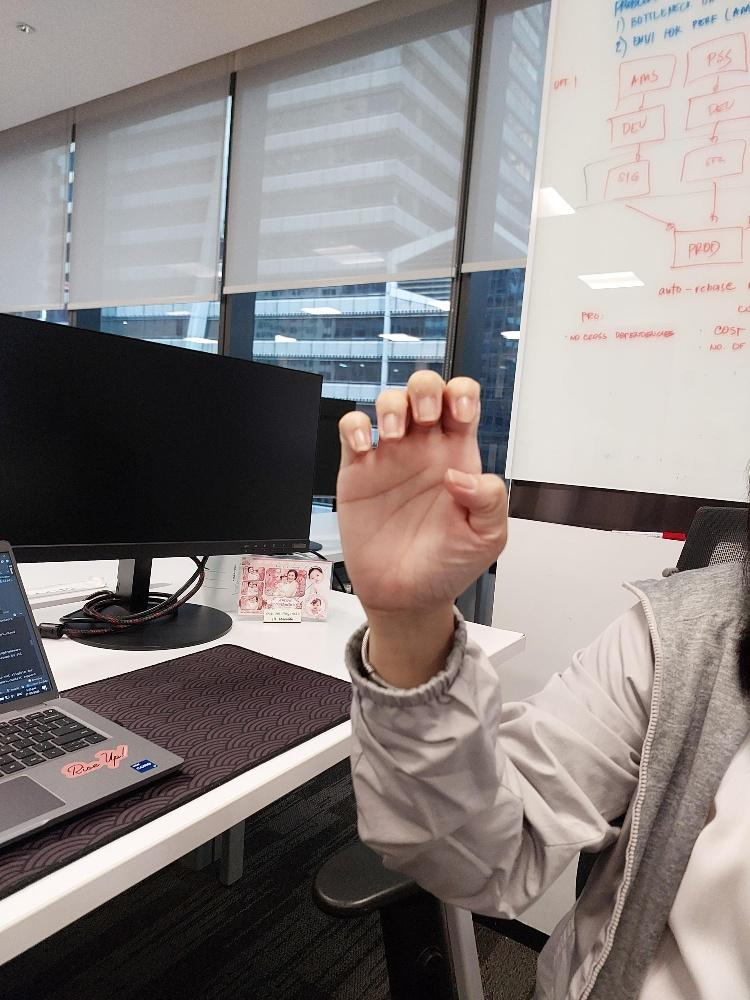e: (334, 370, 508, 607)
